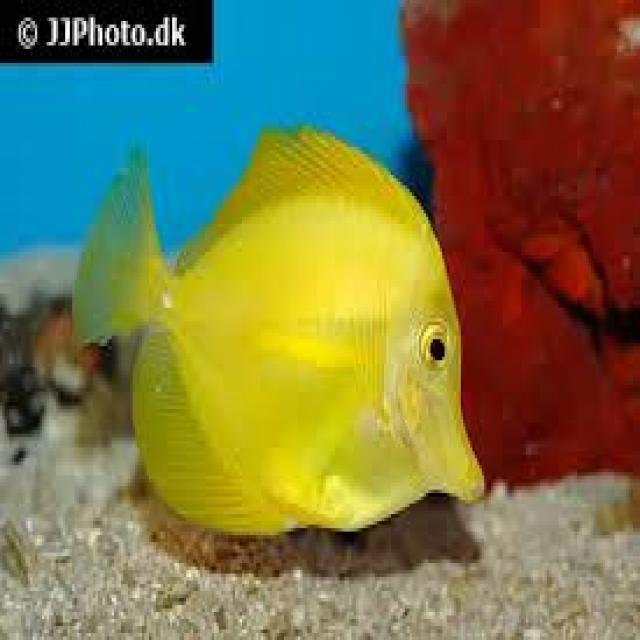YellowTang: (66, 99, 505, 575)
